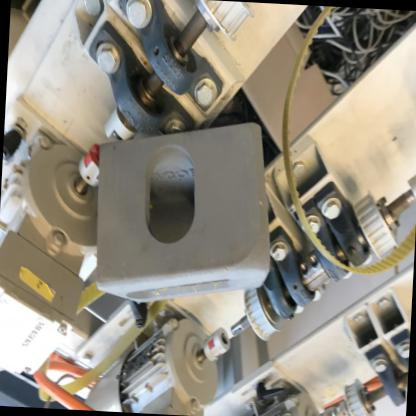CornerCasting: (88, 108, 280, 313)
